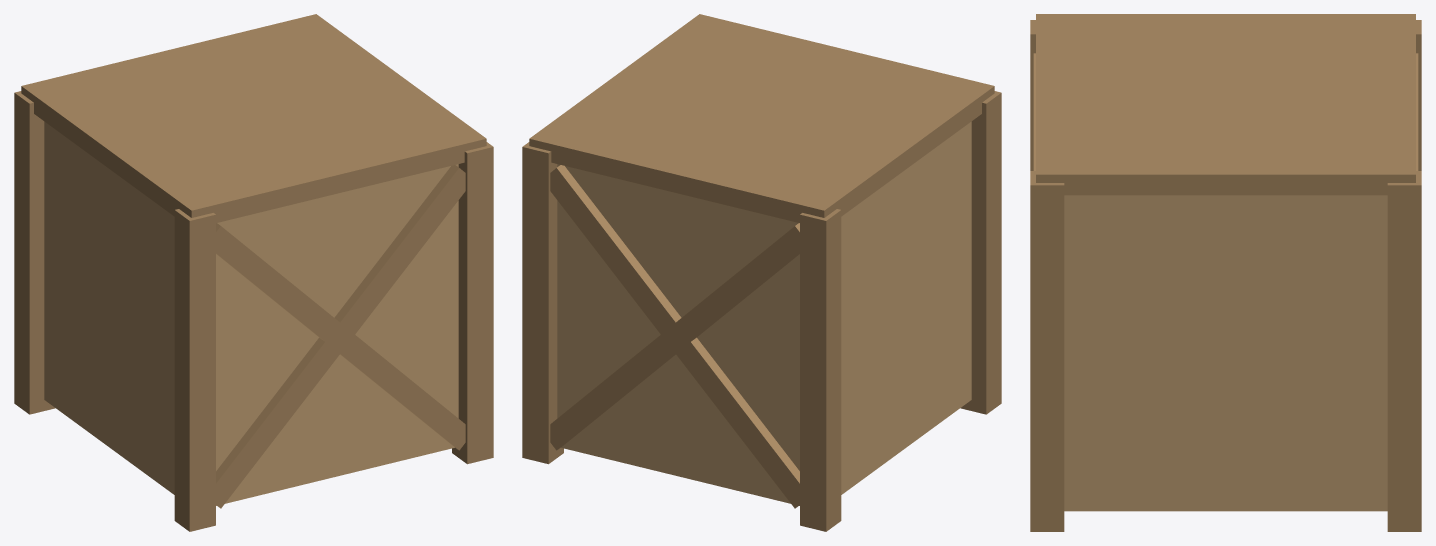
Rendered from crate.glb.
The picture shows the model from 3 angles, left to right: view 1: azimuth 30°, elevation 25°; view 2: azimuth 150°, elevation 25°; view 3: azimuth 270°, elevation 25°; orthographic projection. The views are drawn at different scales.
Parts seen in each view (by area): view 1: CrateBody, CrateLid, CrateSlat_0, CrateSlat_2, CrateX_-1_1, CrateSlat_1, CrateX_-1_-1; view 2: CrateBody, CrateLid, CrateSlat_1, CrateSlat_3, CrateX_1_1, CrateSlat_0, CrateX_1_-1; view 3: CrateBody, CrateLid, CrateSlat_2, CrateSlat_3, CrateSlat_0, CrateSlat_1.
Boxes of the visible parts, left/top/right/bottom form: CrateBody: left=44, top=121, right=458, bottom=505; CrateLid: left=21, top=14, right=486, bottom=222; CrateSlat_0: left=174, top=209, right=215, bottom=531; CrateSlat_2: left=452, top=142, right=493, bottom=464; CrateX_-1_1: left=216, top=165, right=465, bottom=508; CrateSlat_1: left=14, top=91, right=55, bottom=414; CrateX_-1_-1: left=216, top=223, right=465, bottom=450; CrateBody: left=557, top=121, right=971, bottom=505; CrateLid: left=529, top=14, right=994, bottom=222; CrateSlat_1: left=800, top=209, right=841, bottom=531; CrateSlat_3: left=522, top=142, right=563, bottom=464; CrateX_1_1: left=550, top=165, right=799, bottom=508; CrateSlat_0: left=960, top=91, right=1001, bottom=414; CrateX_1_-1: left=550, top=223, right=799, bottom=450; CrateBody: left=1064, top=195, right=1387, bottom=511; CrateLid: left=1036, top=14, right=1415, bottom=195; CrateSlat_2: left=1030, top=171, right=1064, bottom=531; CrateSlat_3: left=1387, top=171, right=1421, bottom=531; CrateSlat_0: left=1030, top=20, right=1035, bottom=170; CrateSlat_1: left=1416, top=20, right=1421, bottom=170.
Bounding box in the file's own units: 0.839 × 0.84 × 0.839.
